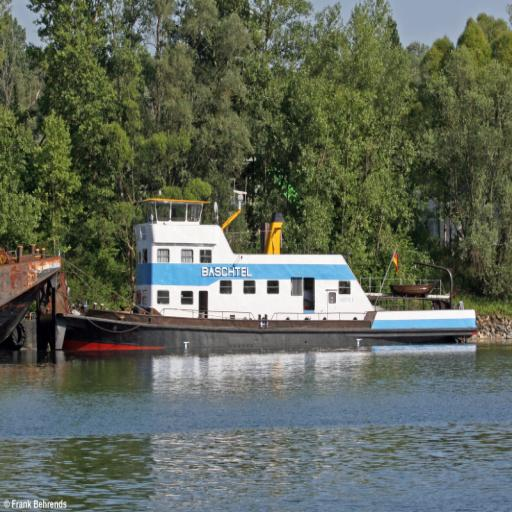tugboat: (59, 184, 482, 367)
